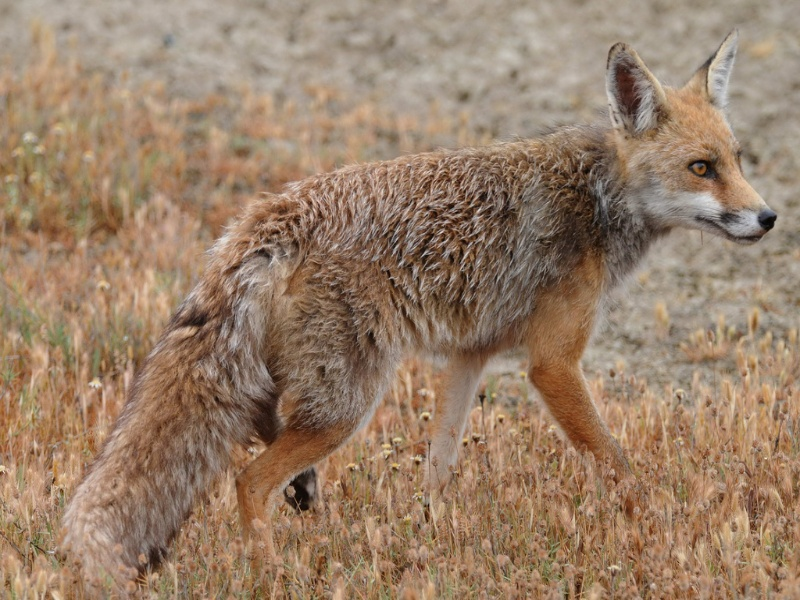fox: (62, 25, 779, 593)
